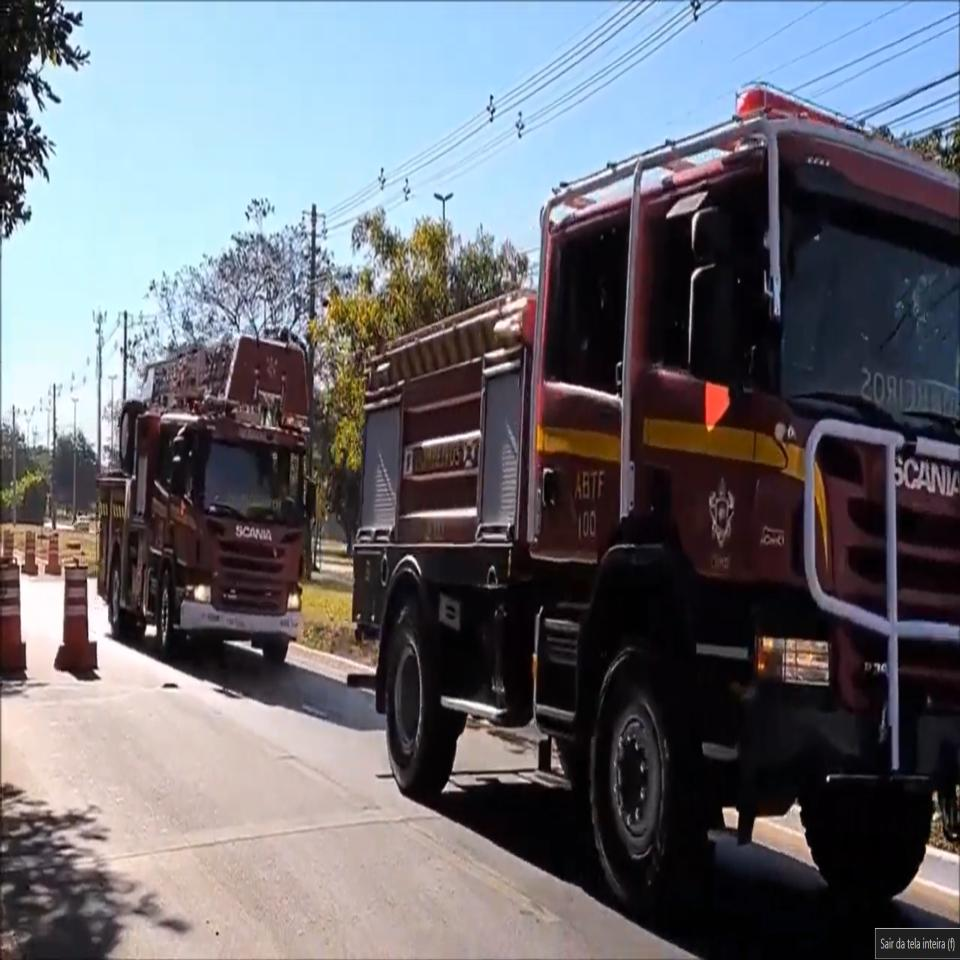viatura: (349, 80, 960, 911), (96, 333, 318, 667)
